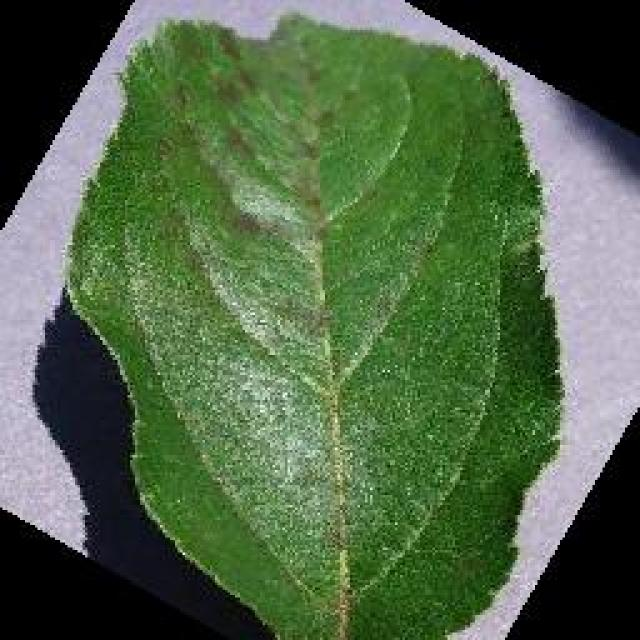apple scab disease: (60, 10, 568, 638)
